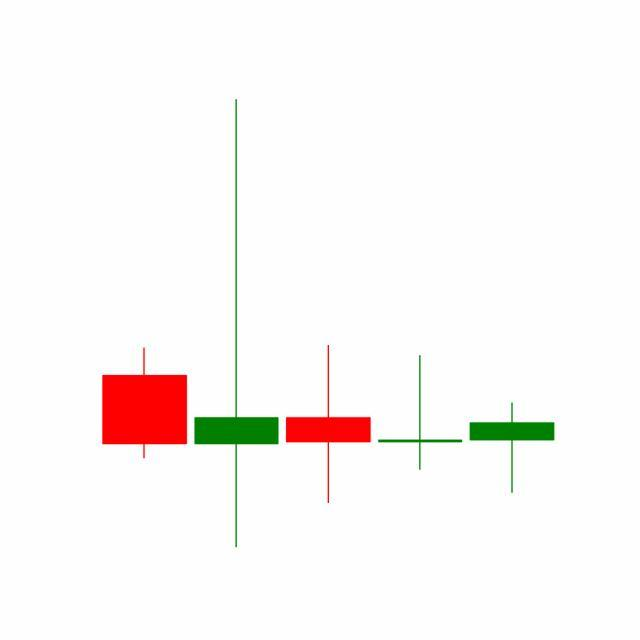Spinning Top: (374, 354, 468, 472)
